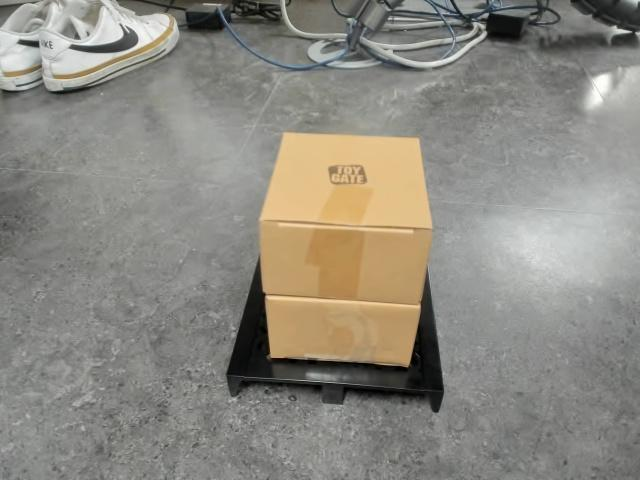box: (227, 131, 447, 417)
